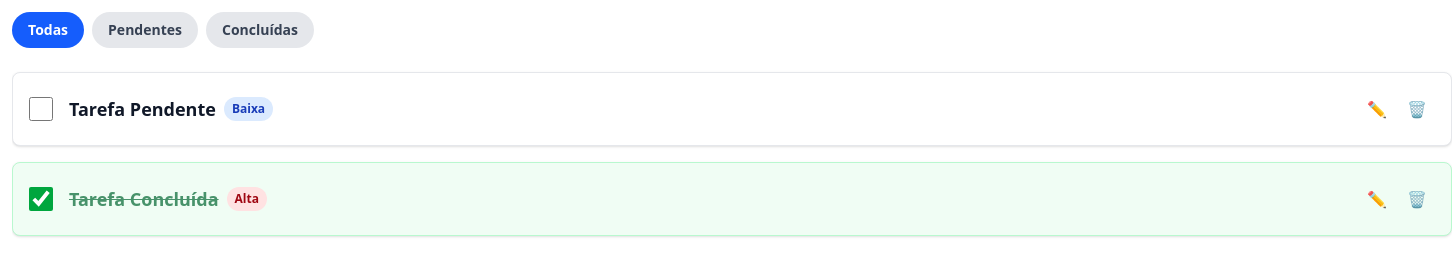
Test: TaskList › deve filtrar as tarefas ao clicar nos botões de filtro
The width and height of the screenshot is (1452, 254).
// Act: O usuário clica no botão de filtro "Concluídas"
Click the button "Concluídas" at (260, 30), box [206,12,314,48]
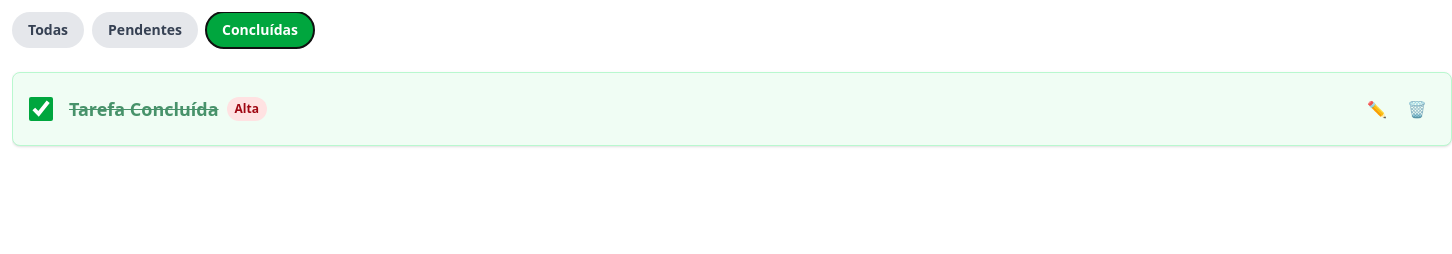
expect the text "Tarefa Concluída" is shown: met, box [69,95,219,123]
expect the text "Tarefa Pendente" is gone: met
Click the button "Pendentes" at (145, 30), box [92,12,198,48]
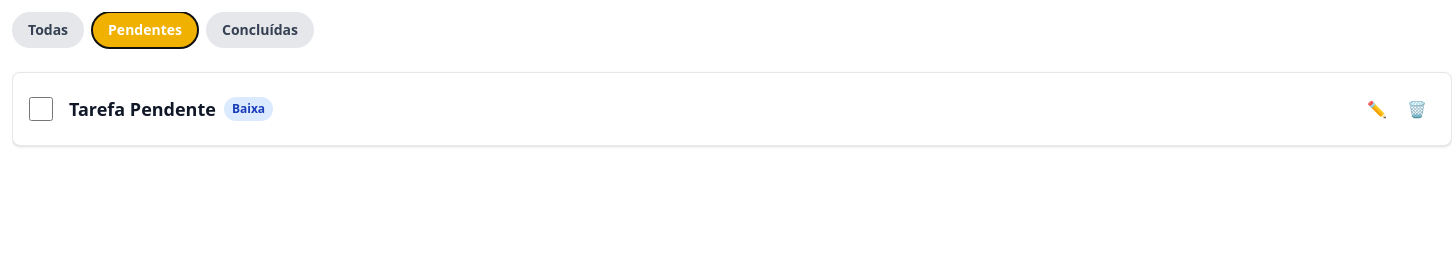
expect the text "Tarefa Pendente" is shown: met, box [69,95,216,123]
expect the text "Tarefa Concluída" is gone: met
Click the button "Todas" at (48, 30), box [12,12,84,48]
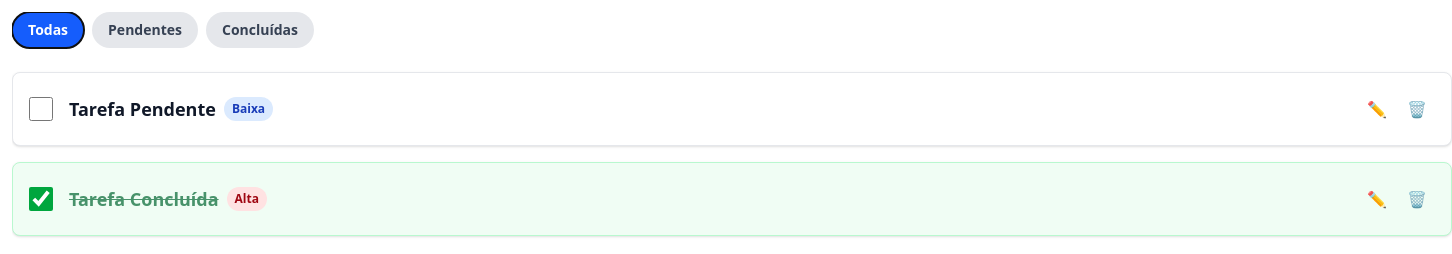
expect the text "Tarefa Pendente" is shown: met, box [69,95,216,123]
expect the text "Tarefa Concluída" is shown: met, box [69,185,219,213]
